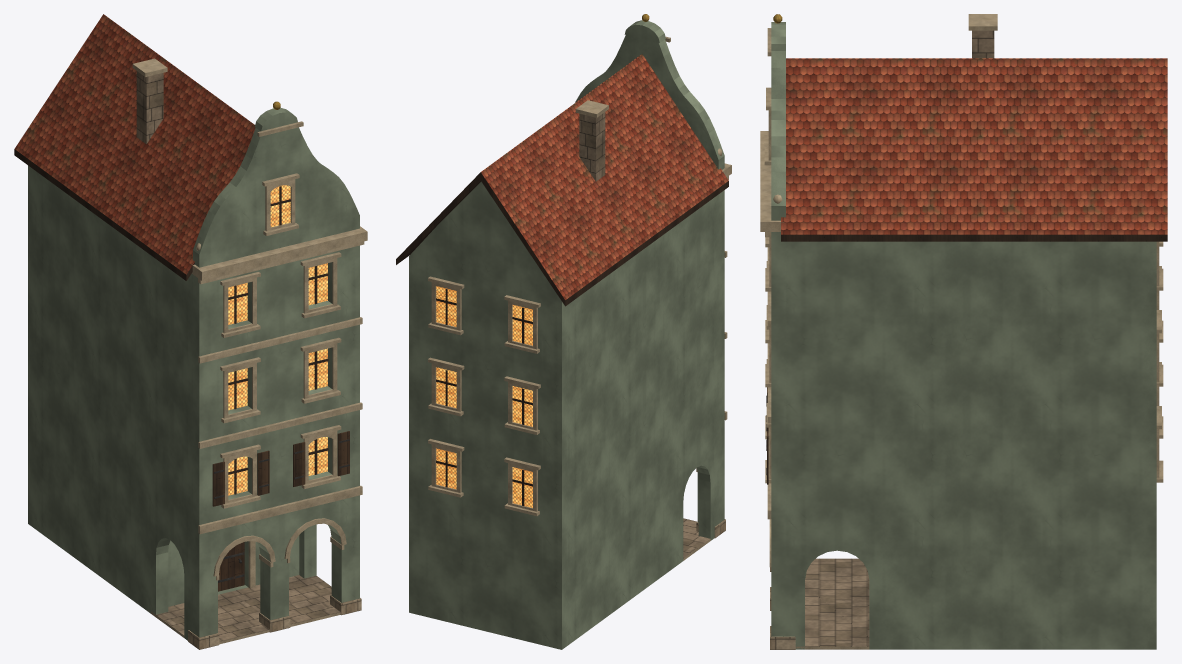
Rendered from house_burgher_b.gltf.
The picture shows the model from 3 angles, left to right: view 1: azimuth 30°, elevation 25°; view 2: azimuth 150°, elevation 25°; view 3: azimuth 270°, elevation 25°; orthographic projection. The views are drawn at different scales.
Parts seen in each view (by area): view 1: house_burgher_b_mesh, INT_door_house_burgher_b, INT_window_house_burgher_b_0, INT_window_house_burgher_b_1, INT_window_house_burgher_b_0_shutter_L, INT_window_house_burgher_b_1_shutter_R, INT_window_house_burgher_b_0_shutter_R, INT_window_house_burgher_b_1_shutter_L; view 2: house_burgher_b_mesh; view 3: house_burgher_b_mesh.
Boxes of the visible parts, <box> form: house_burgher_b_mesh: <box>14,14,367,649</box>; INT_door_house_burgher_b: <box>218,542,244,591</box>; INT_window_house_burgher_b_0: <box>228,456,248,495</box>; INT_window_house_burgher_b_1: <box>308,437,328,475</box>; INT_window_house_burgher_b_0_shutter_L: <box>212,461,224,506</box>; INT_window_house_burgher_b_1_shutter_R: <box>337,431,349,476</box>; INT_window_house_burgher_b_0_shutter_R: <box>257,450,269,495</box>; INT_window_house_burgher_b_1_shutter_L: <box>293,442,305,486</box>; house_burgher_b_mesh: <box>396,14,731,649</box>; house_burgher_b_mesh: <box>760,14,1167,649</box>.
Size of what is drawn, in the model's own units: 7.2 by 20.32 by 12.7.
Materials: 14 (14 with a texture image).
